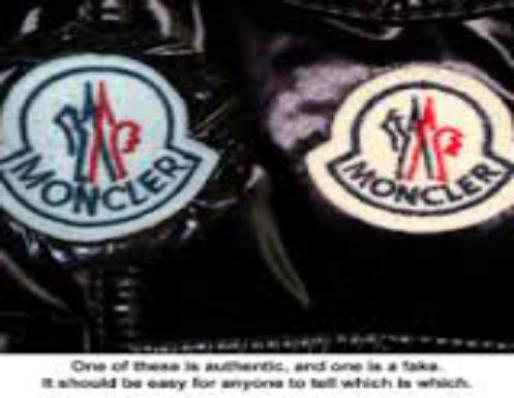MONCLER: (50, 78, 144, 184), (378, 93, 463, 181)
